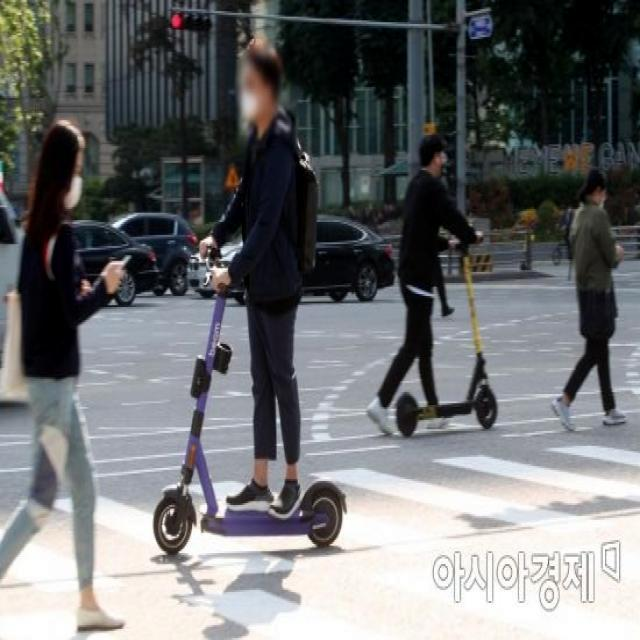bare_head: (229, 36, 301, 119)
human: (212, 31, 303, 510)
kickboard: (149, 466, 382, 589)
